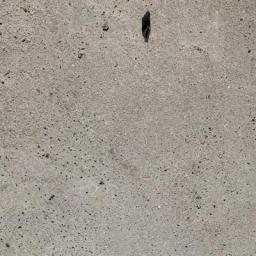FOD: (137, 9, 157, 47)
